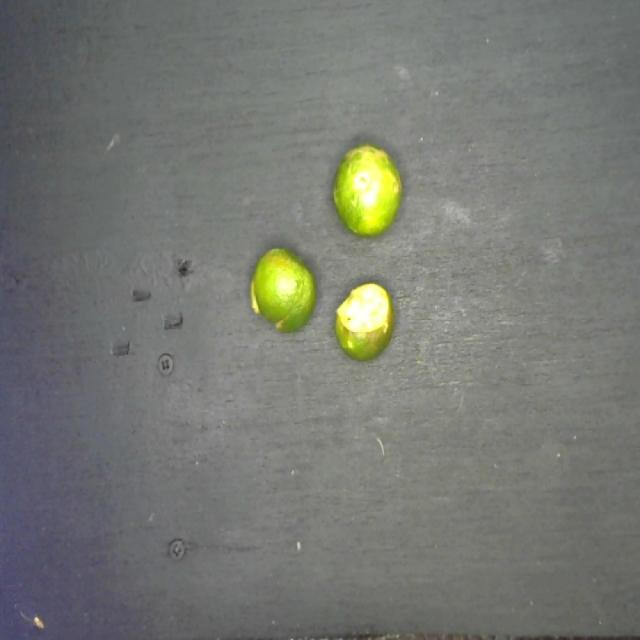biodegradable: (246, 134, 403, 361)
